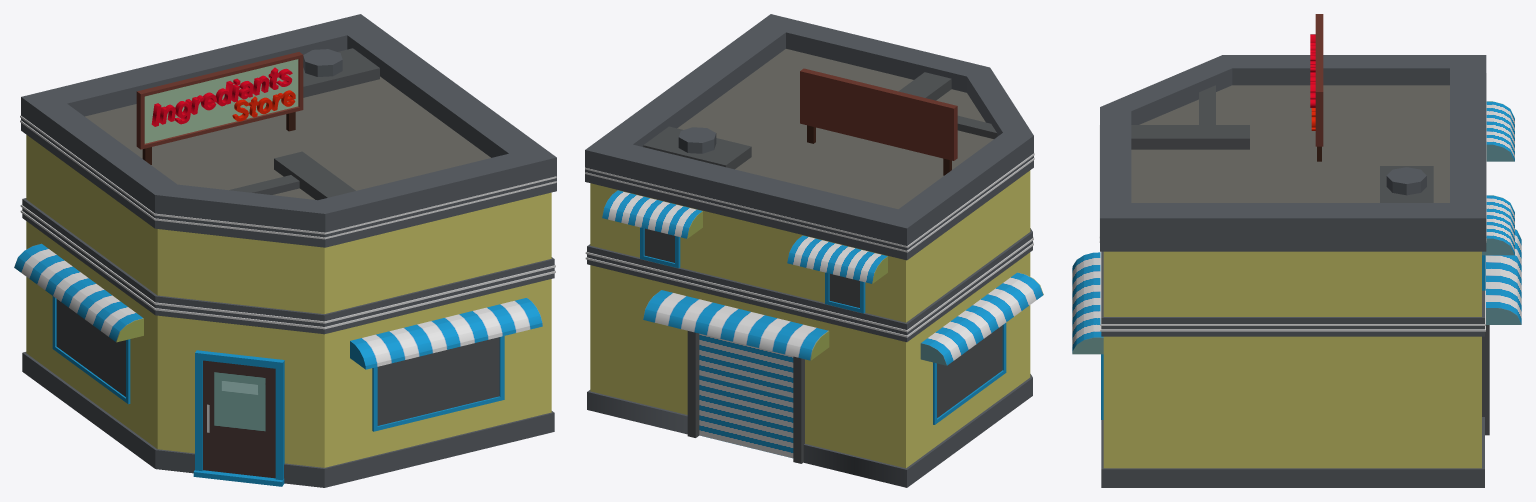
Rendered from Building_Store_2.fbx.
The picture shows the model from 3 angles, left to right: view 1: azimuth 30°, elevation 25°; view 2: azimuth 150°, elevation 25°; view 3: azimuth 270°, elevation 25°; orthographic projection. The views are drawn at different scales.
Visible parts, largest first — view 1: Building_Shoes Shop, Cube.019, Text, Text.001; view 2: Building_Shoes Shop, Cube.019; view 3: Building_Shoes Shop, Cube.019.
Part boxes in pixels (left/top/right/bottom): Building_Shoes Shop: left=14, top=14, right=556, bottom=487; Cube.019: left=136, top=52, right=303, bottom=149; Text: left=151, top=67, right=292, bottom=126; Text.001: left=232, top=90, right=295, bottom=121; Building_Shoes Shop: left=585, top=14, right=1043, bottom=487; Cube.019: left=800, top=68, right=957, bottom=160; Building_Shoes Shop: left=1072, top=55, right=1521, bottom=487; Cube.019: left=1315, top=14, right=1323, bottom=146.
Bounding box in the file's own units: 565 × 493 × 613.
